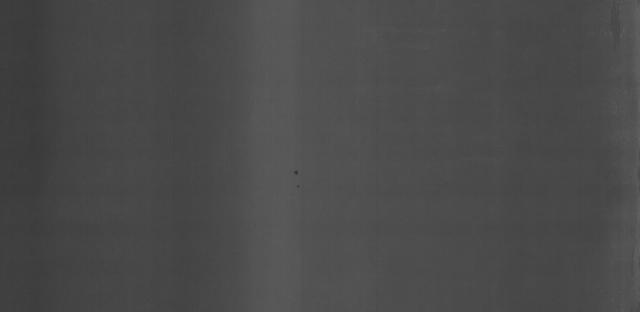silk_spot: (284, 166, 305, 193)
water_spot: (600, 2, 629, 55)
